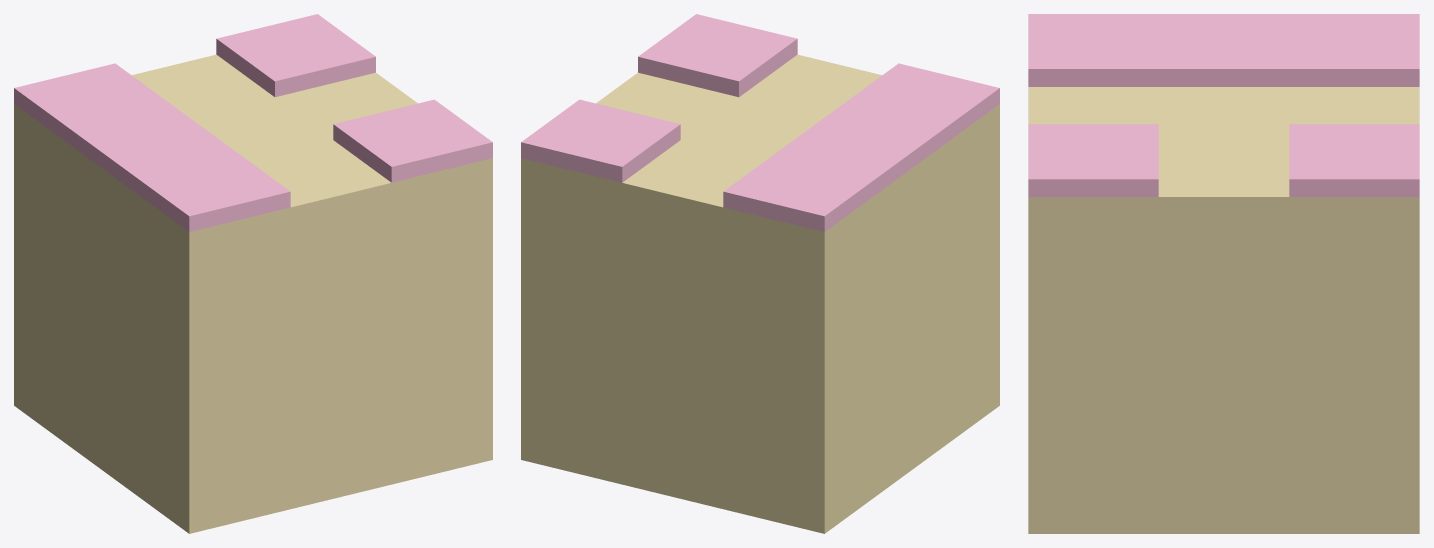
Rendered from CandylandCrossingCube_02.fbx.
3 renders of one model, left to right at view 1: azimuth 30°, elevation 25°; view 2: azimuth 150°, elevation 25°; view 3: azimuth 270°, elevation 25°, orthographic. The views are drawn at different scales.
Visible parts, largest first — view 1: CandylandCrossingCube_02; view 2: CandylandCrossingCube_02; view 3: CandylandCrossingCube_02.
Part boxes in pixels (left/top/right/bottom): CandylandCrossingCube_02: left=14, top=14, right=492, bottom=533; CandylandCrossingCube_02: left=521, top=14, right=999, bottom=533; CandylandCrossingCube_02: left=1028, top=14, right=1419, bottom=533.
Size of the model in its own units: 1 by 1 by 1.
